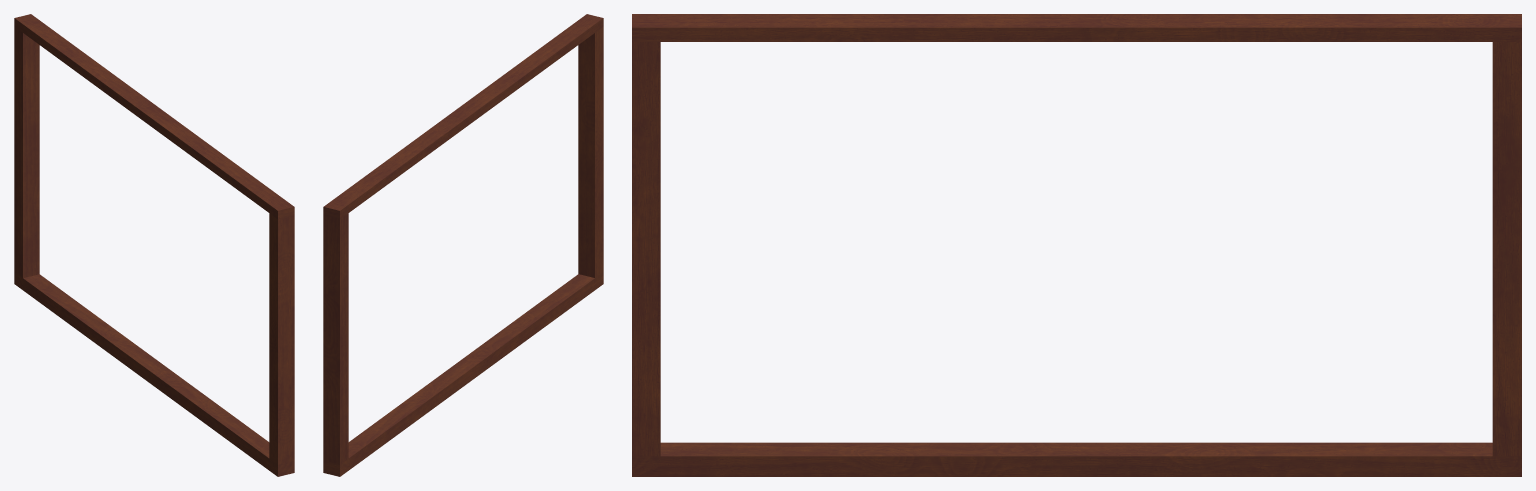
Rendered from SM_WallPaper01F.fbx.
3 views of the same model, side by side, from view 1: azimuth 30°, elevation 25°; view 2: azimuth 150°, elevation 25°; view 3: azimuth 270°, elevation 25° (orthographic). The views are drawn at different scales.
Visible parts, largest first — view 1: SM_WallPaper01F; view 2: SM_WallPaper01F; view 3: SM_WallPaper01F.
Part boxes in pixels (x1=…): SM_WallPaper01F: x1=14, y1=14, x2=294, y2=476; SM_WallPaper01F: x1=323, y1=14, x2=603, y2=476; SM_WallPaper01F: x1=632, y1=14, x2=1521, y2=476.
Bounding box in the file's own units: 8.99 × 247 × 138.
